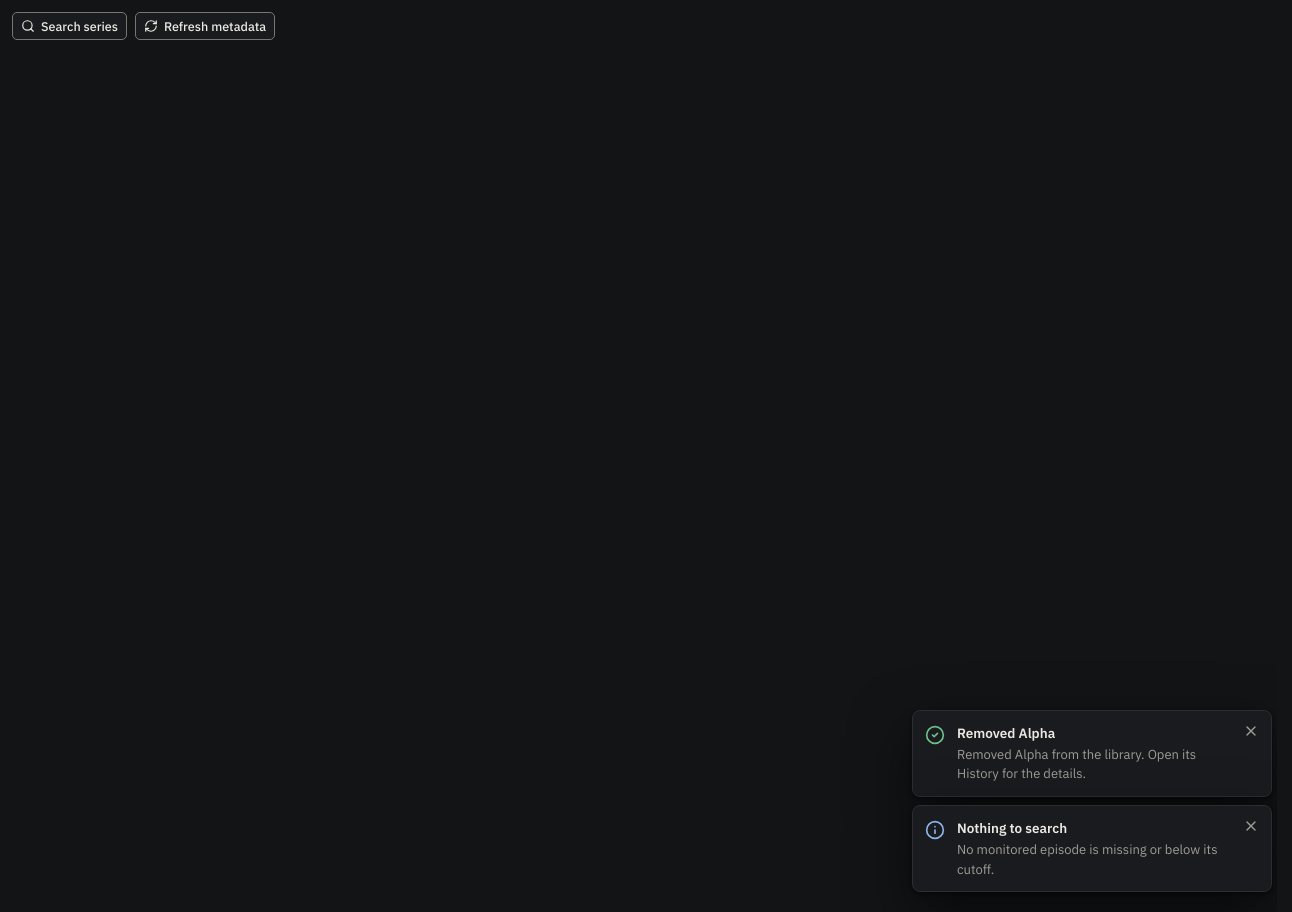
Search series' answer (F8.1, F8.3) › says a search that searched nothing once: no Nothing searched prefix under the Nothing to search title
Click the button with test id "title-search-now". click: (69,26)
box: x1=12 y1=12 x2=127 y2=40
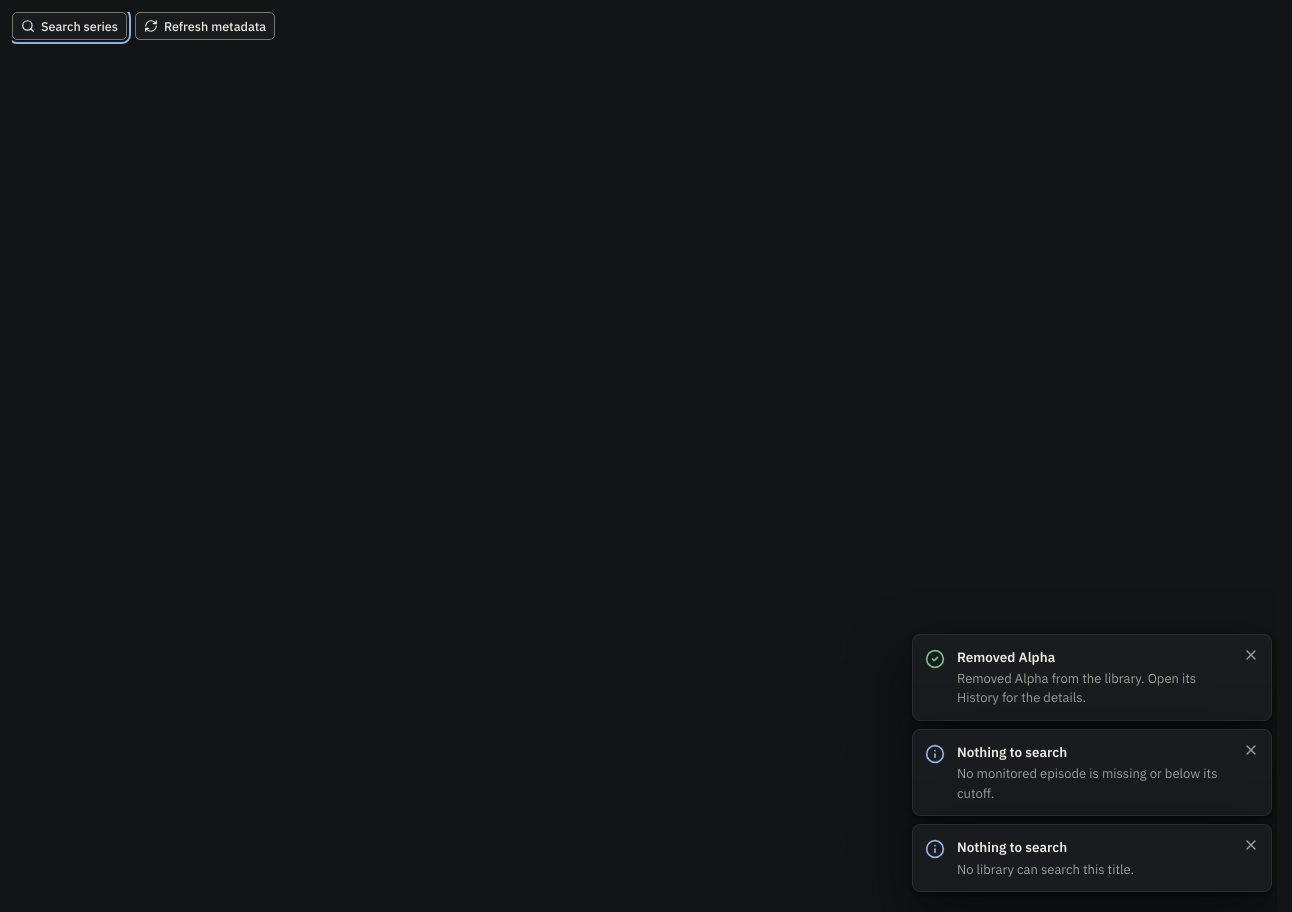
Now the text "No library can search this title." is shown, box x1=957 y1=860 x2=1134 y2=878
